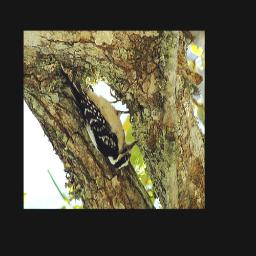Woodpecker: (58, 64, 138, 175)
